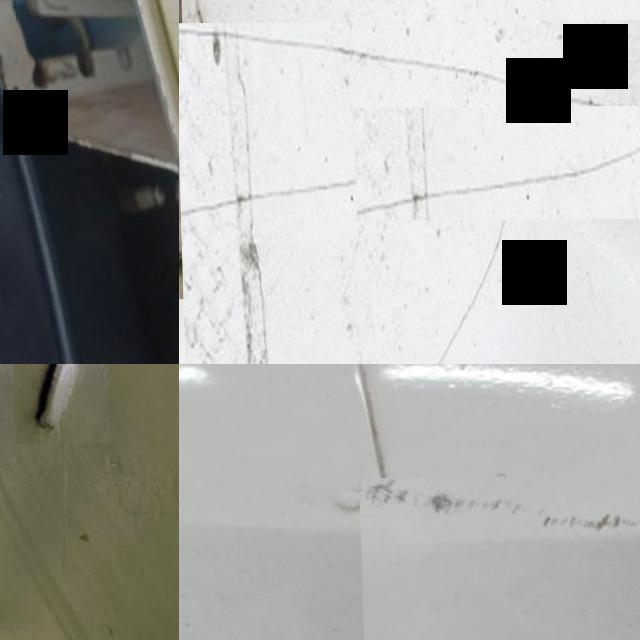Crack: (179, 24, 640, 364), (357, 476, 640, 640), (355, 141, 640, 221), (9, 364, 107, 444)
